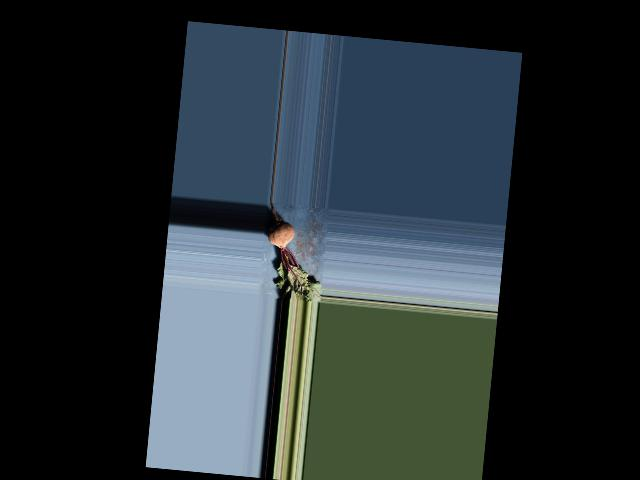beet: (261, 202, 329, 303)
